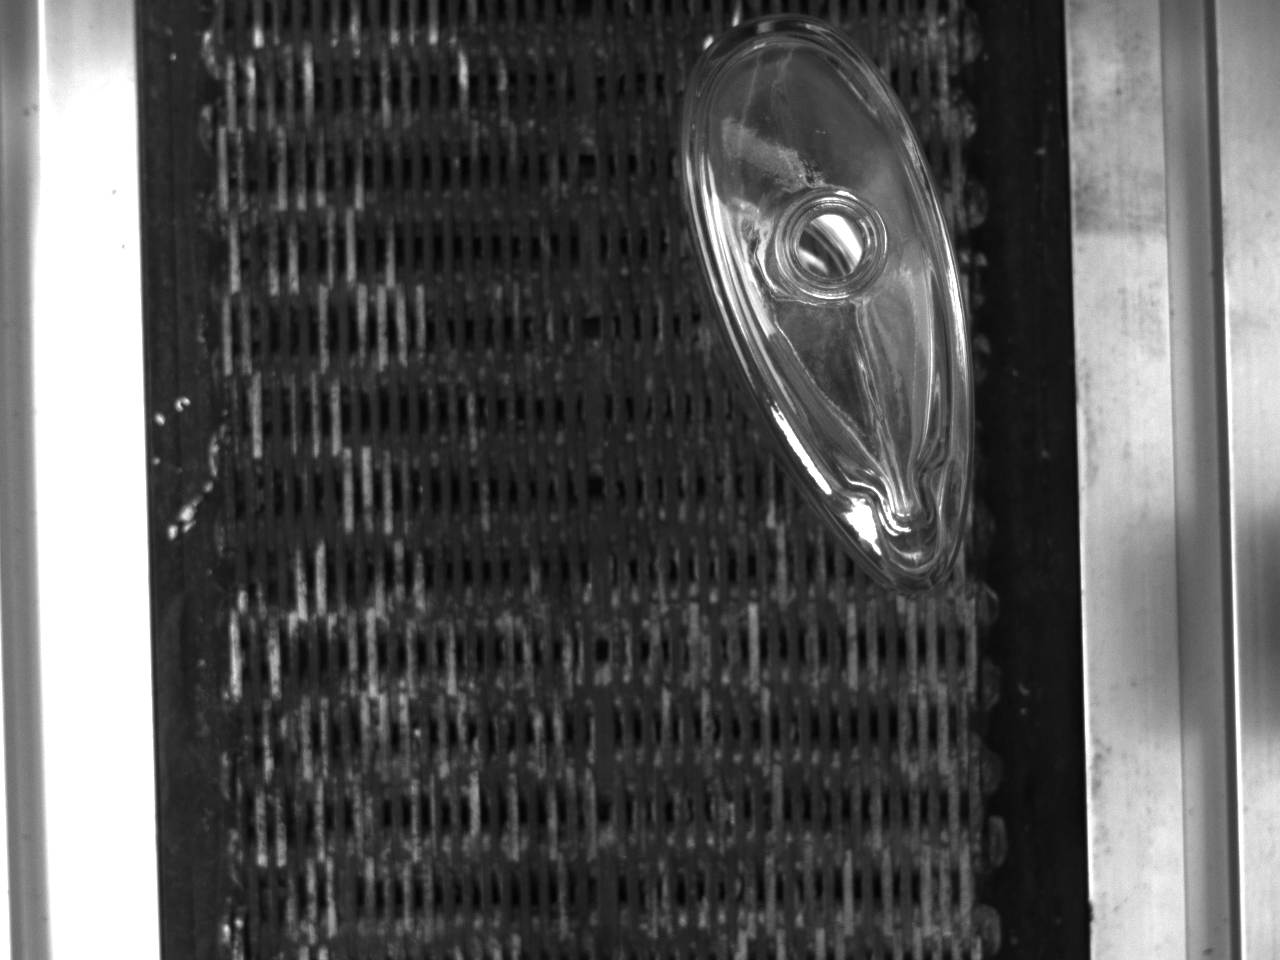bottleneck: (776, 189, 890, 299)
